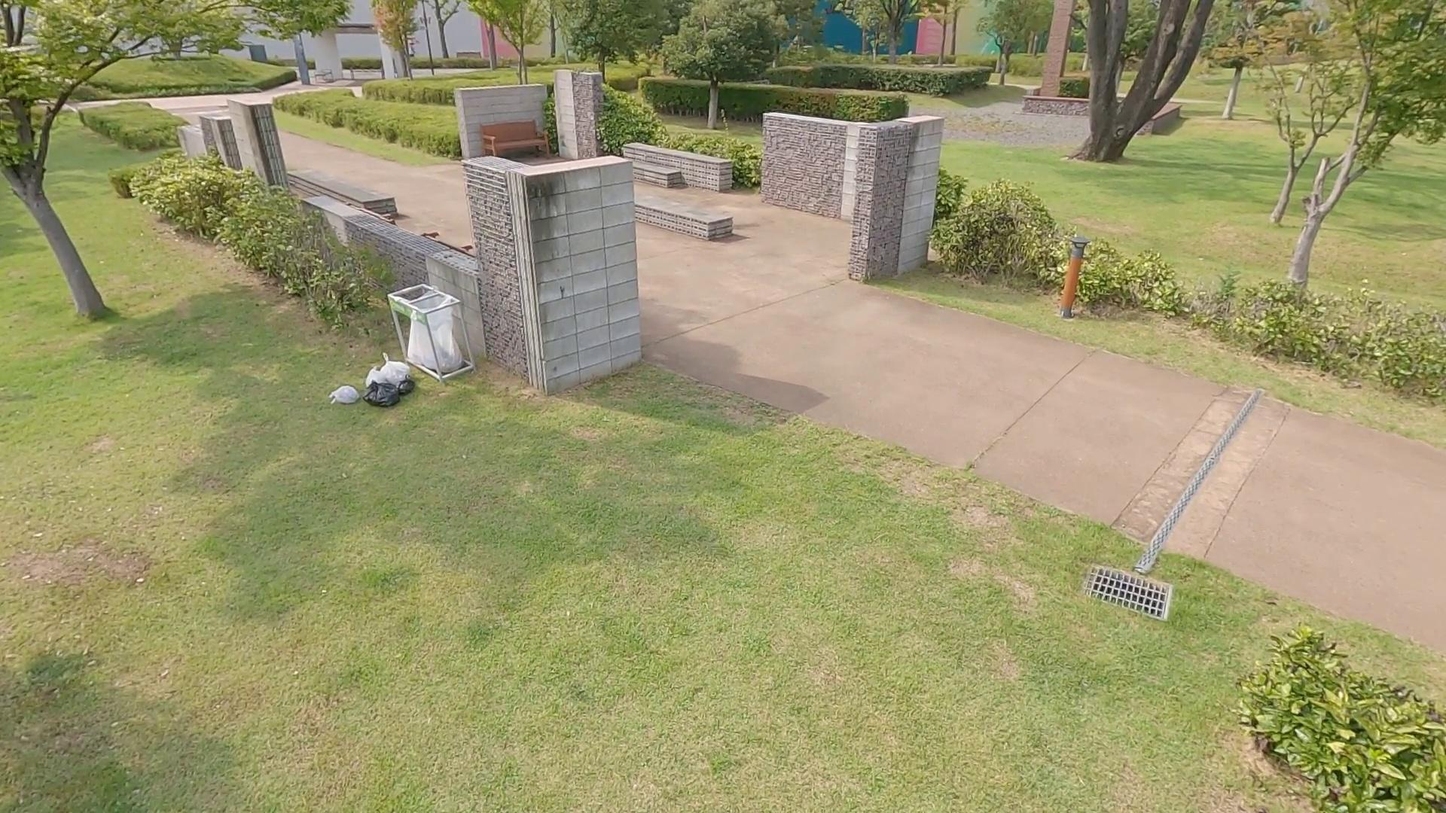trash: (378, 350, 412, 387), (365, 381, 400, 410), (362, 363, 393, 395), (328, 383, 360, 410), (394, 375, 419, 399)
